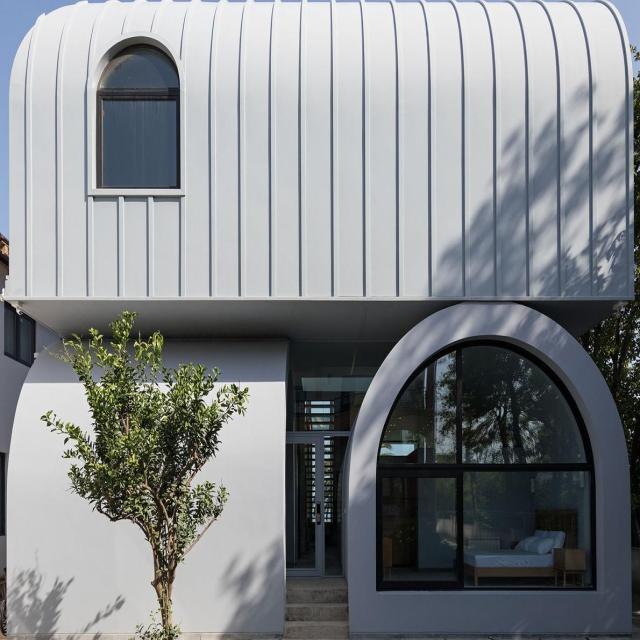door: (288, 431, 343, 577)
plant: (45, 313, 246, 639), (577, 83, 639, 470)
wall: (6, 0, 633, 638)
windows: (378, 342, 595, 592), (99, 52, 179, 188)
